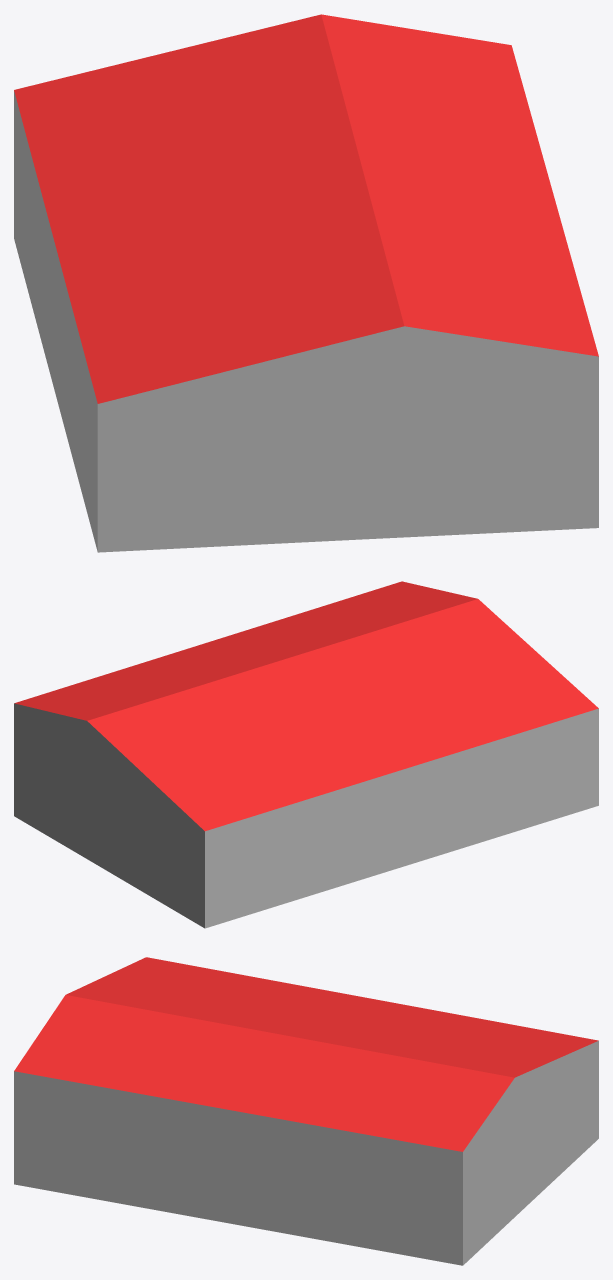
The model's file is DEBY_LOD2_4908178.dae.
The picture shows the model from 3 angles, top to bottom: view 1: azimuth 30°, elevation 25°; view 2: azimuth 150°, elevation 25°; view 3: azimuth 270°, elevation 25°; orthographic projection. The views are drawn at different scales.
Bounding box in the file's own units: 13.3 × 15.61 × 4.11.
